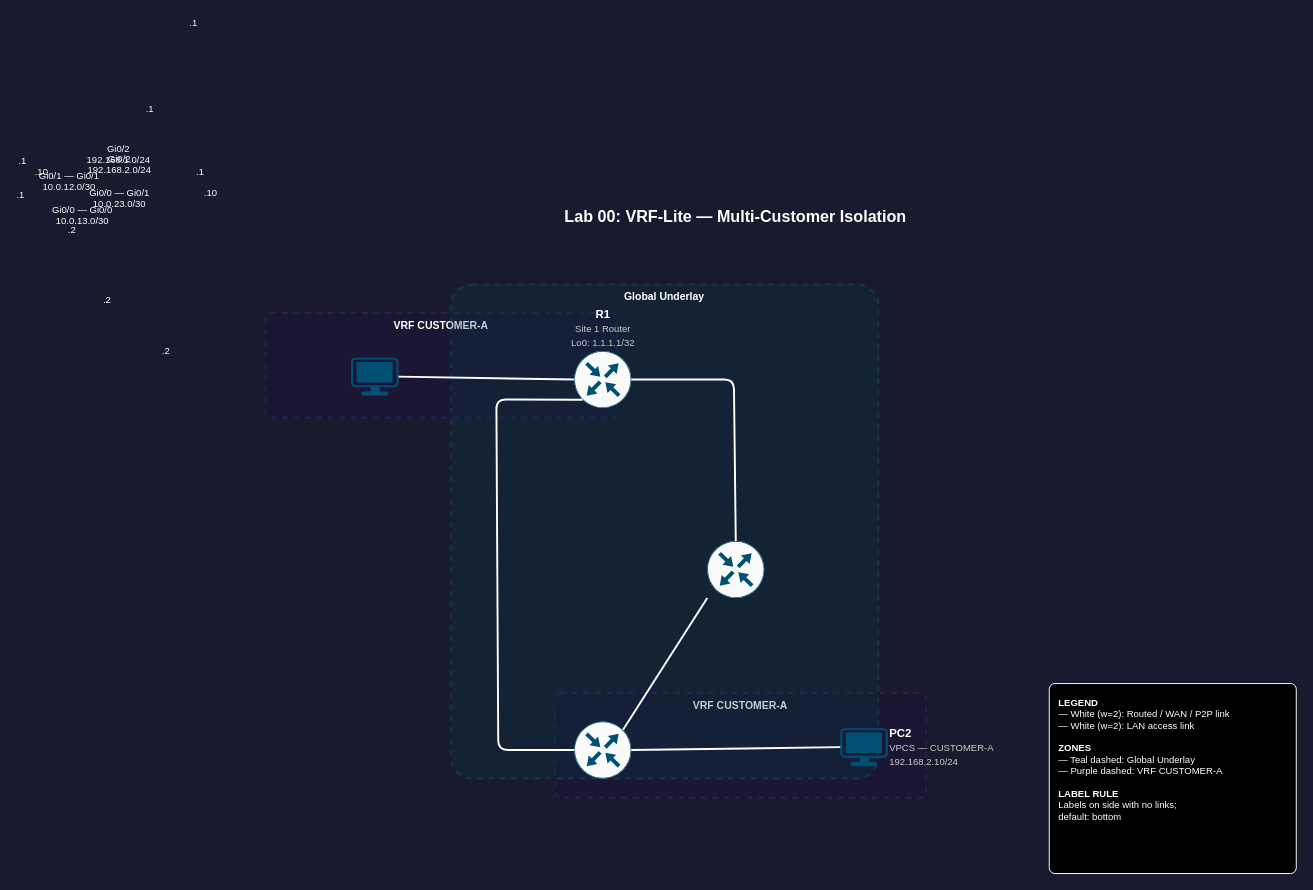
The diagram is 1313 pixels wide and 890 high, and some of its shapes have lost their labels. The shapes that lost their labels are listed below. From the top down, each one's centre as x and y in pixels, then its label:
At pixel 374 376: "PC1 VPCS — CUSTOMER-A 192.168.1.10/24".
At pixel 735 569: "R3 Shared WAN Transport Lo0: 3.3.3.3/32".
At pixel 602 750: "R2 Site 2 Router Lo0: 2.2.2.2/32".
